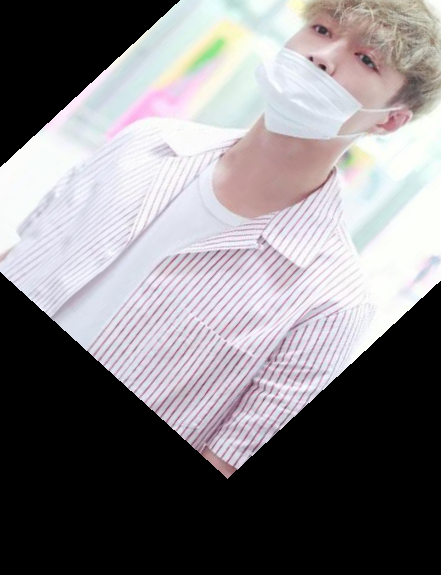mask_weared_incorrect: (239, 3, 441, 167)
